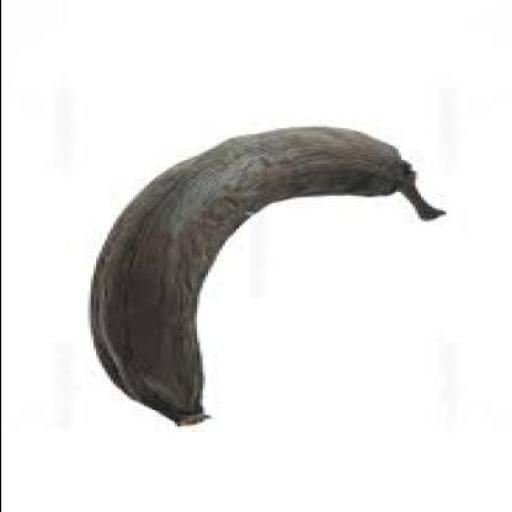biodegradable: (92, 127, 450, 428)
